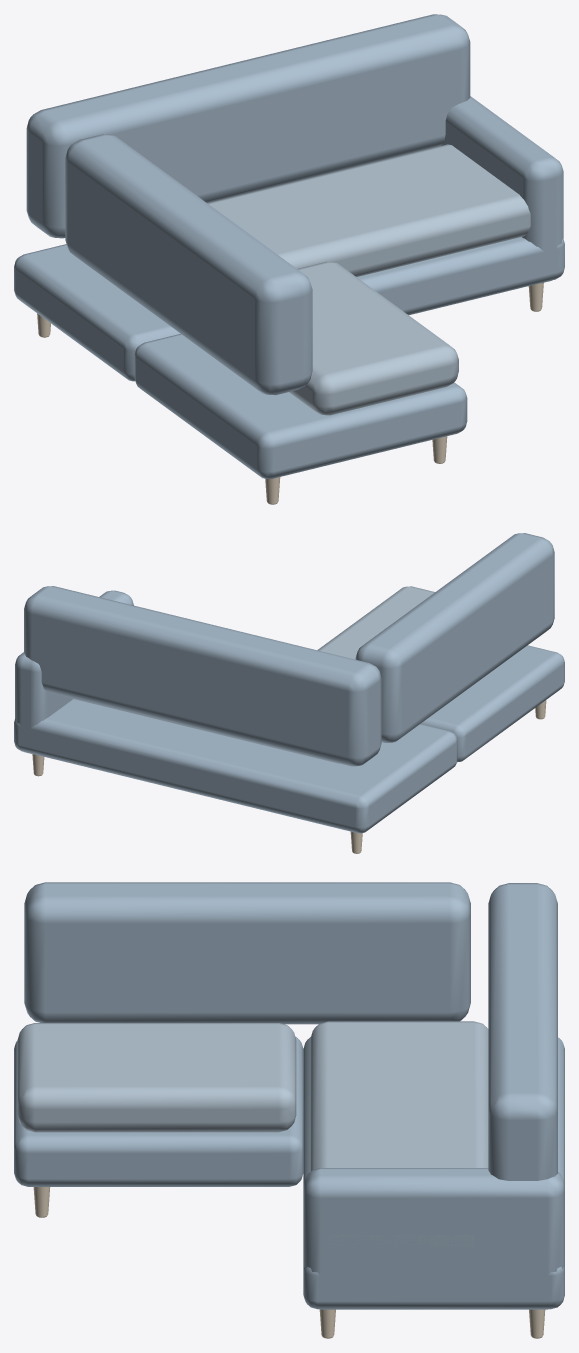
Rendered from sofaL.glb.
The picture shows the model from 3 angles, top to bottom: view 1: azimuth 30°, elevation 25°; view 2: azimuth 150°, elevation 25°; view 3: azimuth 270°, elevation 25°; orthographic projection. The views are drawn at different scales.
Visible parts, largest first — view 1: sofaL; view 2: sofaL; view 3: sofaL.
Boxes of the visible parts, <box> form: sofaL: <box>14,14,564,504</box>; sofaL: <box>14,533,564,853</box>; sofaL: <box>14,882,564,1338</box>.
Size of the model in its own units: 1.58 by 0.77 by 1.58.
